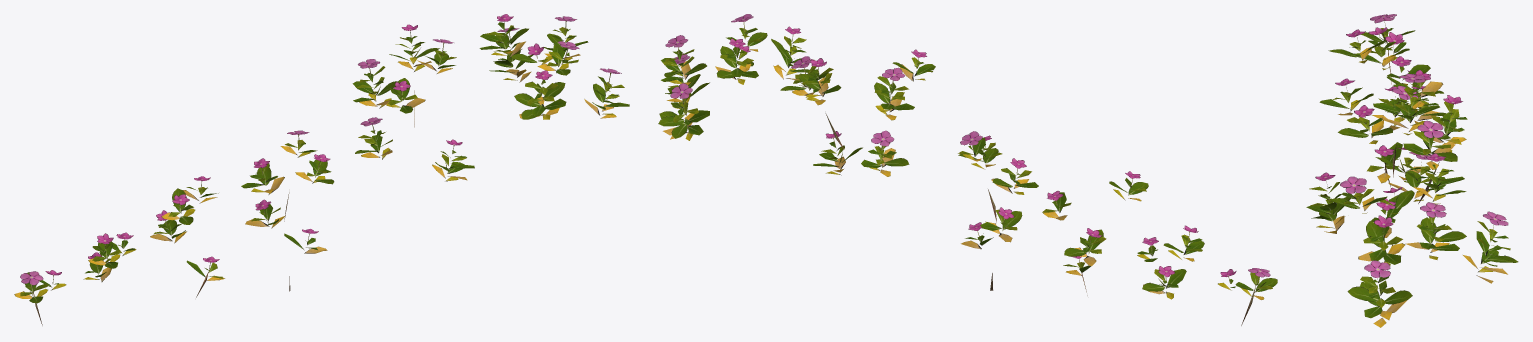
The model's file is periwinkle_plant.glb.
The picture shows the model from 3 angles, left to right: view 1: azimuth 30°, elevation 25°; view 2: azimuth 150°, elevation 25°; view 3: azimuth 270°, elevation 25°; orthographic projection. The views are drawn at different scales.
Visible parts, largest first — view 1: periwinkle_plant_01_LOD0, periwinkle_plant_02_LOD0, periwinkle_plant_03_LOD0, periwinkle_plant_04_LOD0, periwinkle_plant_05_LOD0, periwinkle_plant_06_LOD0; view 2: periwinkle_plant_01_LOD0, periwinkle_plant_02_LOD0, periwinkle_plant_03_LOD0, periwinkle_plant_04_LOD0, periwinkle_plant_05_LOD0, periwinkle_plant_06_LOD0; view 3: periwinkle_plant_01_LOD0, periwinkle_plant_02_LOD0, periwinkle_plant_03_LOD0, periwinkle_plant_04_LOD0, periwinkle_plant_05_LOD0, periwinkle_plant_06_LOD0.
Boxes of the visible parts, x1,y1,x2,y2 form: periwinkle_plant_01_LOD0: (479,14,629,119); periwinkle_plant_02_LOD0: (352,24,474,181); periwinkle_plant_03_LOD0: (241,130,334,291); periwinkle_plant_04_LOD0: (150,176,224,297); periwinkle_plant_05_LOD0: (83,232,136,282); periwinkle_plant_06_LOD0: (14,270,66,325); periwinkle_plant_01_LOD0: (658,14,814,140); periwinkle_plant_02_LOD0: (780,49,935,176); periwinkle_plant_03_LOD0: (958,131,1038,290); periwinkle_plant_04_LOD0: (1042,171,1148,295); periwinkle_plant_05_LOD0: (1137,225,1204,299); periwinkle_plant_06_LOD0: (1218,268,1277,325); periwinkle_plant_01_LOD0: (1306,153,1518,327); periwinkle_plant_02_LOD0: (1319,73,1467,265); periwinkle_plant_03_LOD0: (1338,85,1428,245); periwinkle_plant_04_LOD0: (1328,29,1445,186); periwinkle_plant_05_LOD0: (1354,27,1443,103); periwinkle_plant_06_LOD0: (1361,14,1415,86).
Size of the model in its own units: 1.24 by 0.4107 by 0.3207.
1 material, 1 textured.
